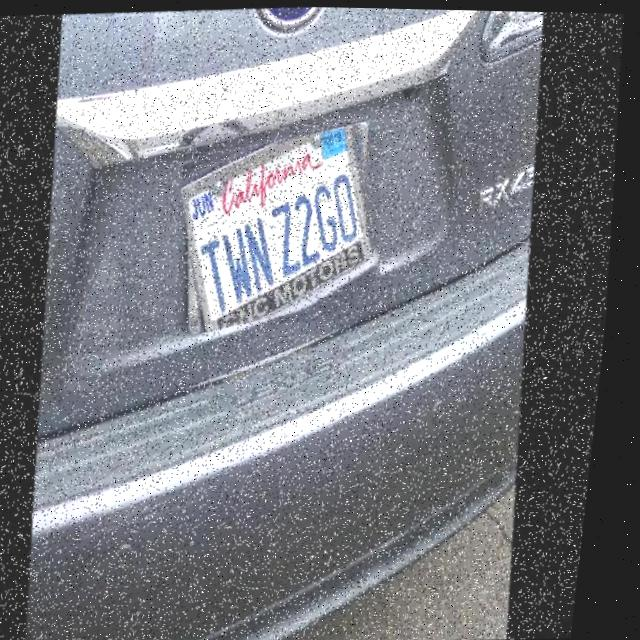LicensePlate: (172, 124, 398, 329)
